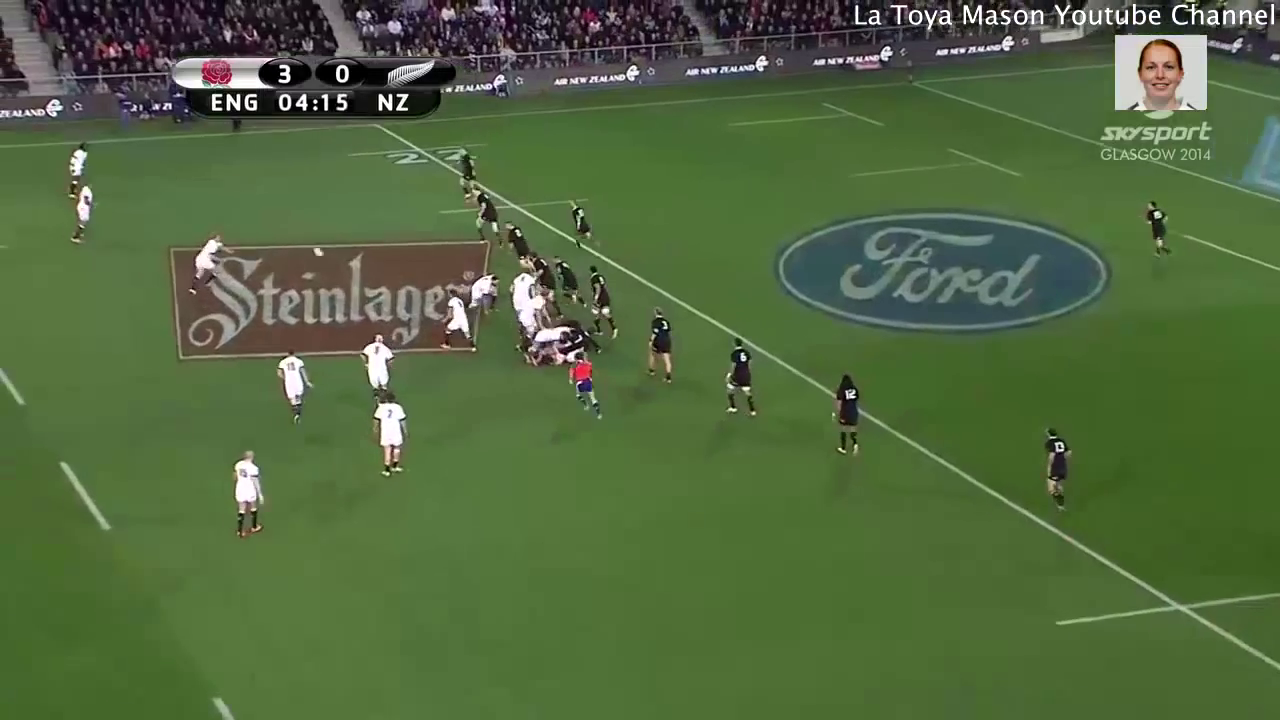player: (219, 444, 269, 547), (366, 384, 413, 479), (825, 369, 870, 464), (1032, 420, 1078, 511), (717, 332, 762, 423), (270, 343, 318, 428), (355, 327, 398, 410), (640, 298, 677, 392), (186, 225, 231, 301), (434, 284, 477, 362), (584, 266, 624, 344), (64, 172, 101, 252), (457, 264, 505, 323), (566, 351, 605, 421), (467, 182, 505, 247), (550, 252, 591, 311), (566, 199, 606, 259), (1140, 200, 1175, 265), (516, 323, 575, 361), (59, 134, 91, 203), (492, 214, 536, 262), (452, 141, 483, 206), (503, 265, 538, 322), (519, 288, 551, 336)
ruck: (513, 305, 606, 368)
